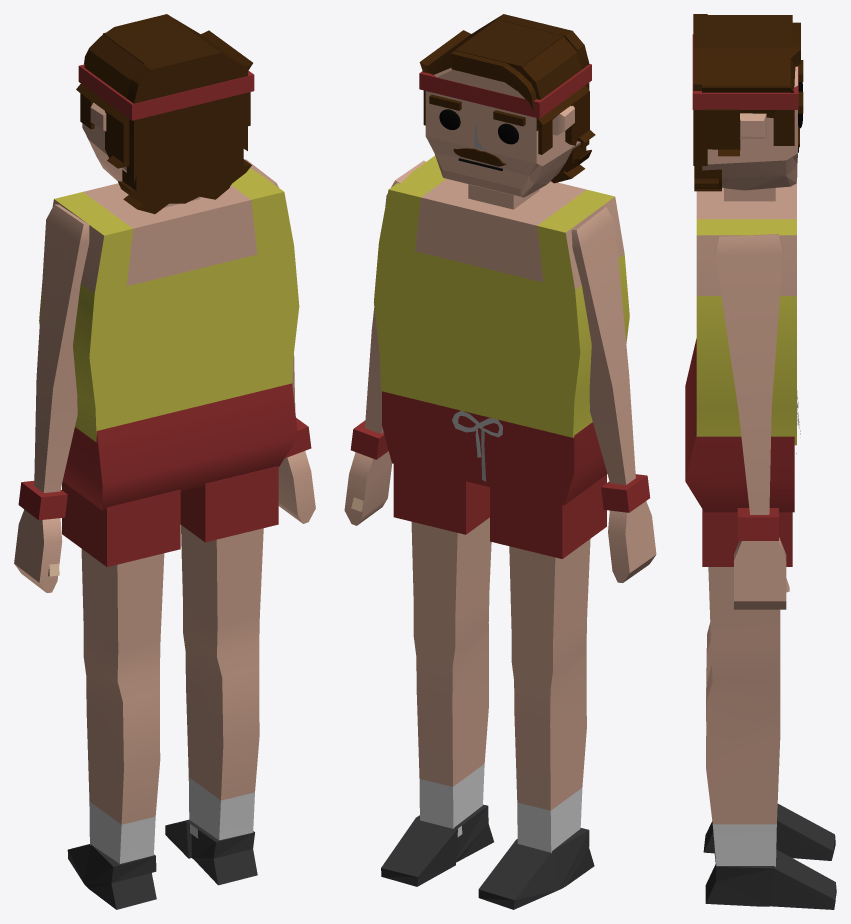
Rendered from armsdownguy.fbx.
3 views of the same model, side by side, from view 1: azimuth 30°, elevation 25°; view 2: azimuth 150°, elevation 25°; view 3: azimuth 270°, elevation 25° (orthographic).
Parts seen in each view (by area): view 1: pCube59, pCube63, pCube66, pCube60, pCube153, pCube45, pCube62, pCube61, pCube51, pCube67, pCube65, pCube30 (+6 smaller); view 2: pCube59, pCube63, pCube66, pCube153, pCube60, pCube27, pCube62, pCube67, pCube61, pCube65, pCube30, pCube36 (+9 smaller); view 3: pCube63, pCube59, pCube70, pCube60, pCube65, pCube27, pCube68, pCube29, pCube36, pCube67, pCube61, pCube30 (+8 smaller).
Boxes of the visible parts, box(x1,y1,x2,y2) form: pCube59: box(39, 168, 299, 442); pCube63: box(181, 525, 263, 840); pCube66: box(81, 549, 164, 863); pCube60: box(62, 383, 297, 510); pCube153: box(14, 204, 89, 592); pCube45: box(126, 47, 247, 184); pCube62: box(62, 481, 180, 566); pCube61: box(180, 466, 278, 542); pCube51: box(122, 135, 243, 205); pCube67: box(67, 844, 156, 909); pCube65: box(165, 819, 257, 885); pCube30: box(78, 64, 254, 120); pCube59: box(373, 155, 629, 437); pCube63: box(411, 517, 491, 836); pCube66: box(509, 539, 590, 853); pCube153: box(571, 206, 656, 582); pCube60: box(382, 391, 607, 505); pCube27: box(425, 68, 580, 197); pCube62: box(490, 474, 606, 558); pCube67: box(478, 828, 594, 909); pCube61: box(393, 464, 489, 534); pCube65: box(381, 804, 493, 886); pCube30: box(419, 64, 591, 118); pCube36: box(449, 19, 563, 73); pCube63: box(706, 567, 780, 866); pCube59: box(696, 181, 796, 445); pCube70: box(715, 234, 783, 514); pCube60: box(685, 338, 794, 512); pCube65: box(705, 846, 836, 909); pCube27: box(702, 66, 797, 190); pCube68: box(734, 537, 786, 609); pCube29: box(702, 54, 795, 92); pCube36: box(707, 15, 792, 55); pCube67: box(703, 804, 835, 860); pCube61: box(702, 509, 792, 566); pCube30: box(692, 34, 798, 109).
Bounding box in the file's own units: 3.62 × 10.23 × 1.68.
